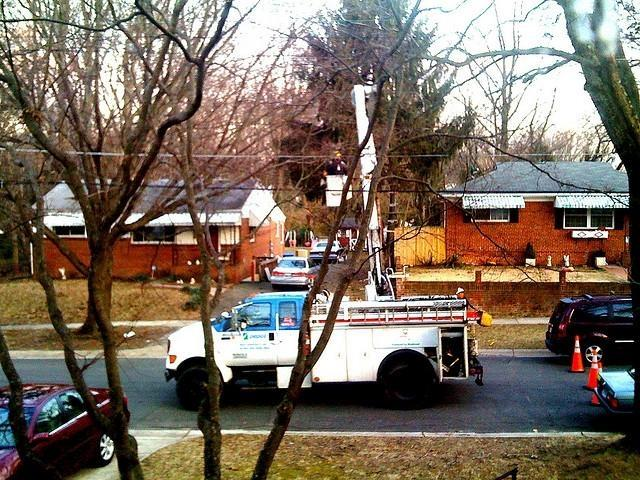car: (1, 375, 133, 477), (546, 293, 636, 368), (594, 364, 636, 416), (270, 255, 319, 292), (308, 241, 348, 264), (308, 266, 321, 278)
truck: (165, 294, 472, 412)
